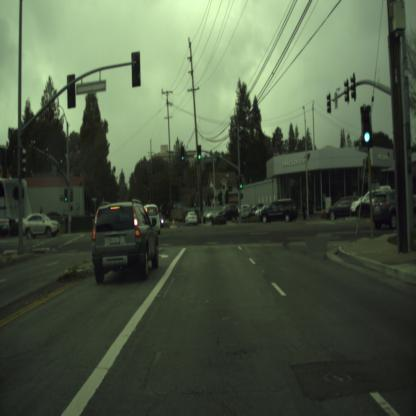Green: (360, 106, 372, 144), (197, 145, 201, 159), (240, 176, 243, 188)
GreenLeft: (64, 188, 67, 202), (181, 146, 184, 160)
